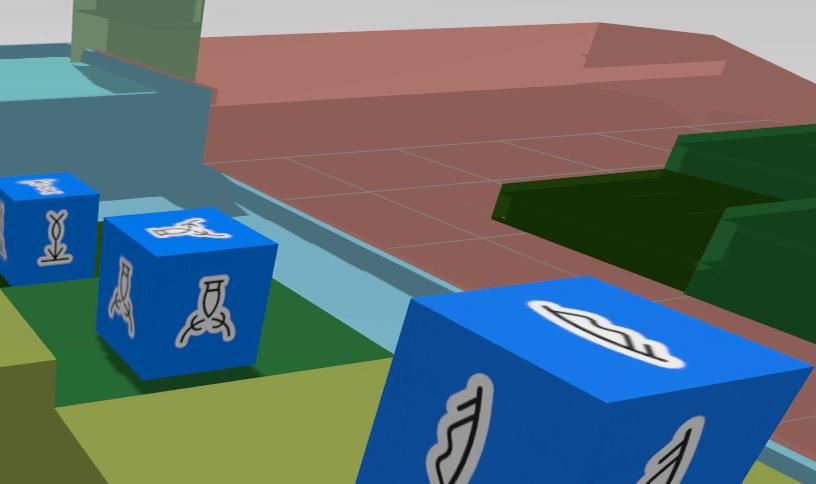KFS_REAL: (358, 277, 810, 484), (96, 208, 276, 379), (0, 172, 99, 284), (528, 300, 684, 367), (425, 375, 492, 484), (636, 416, 704, 484), (176, 276, 235, 348), (108, 257, 133, 337), (37, 210, 71, 263)
